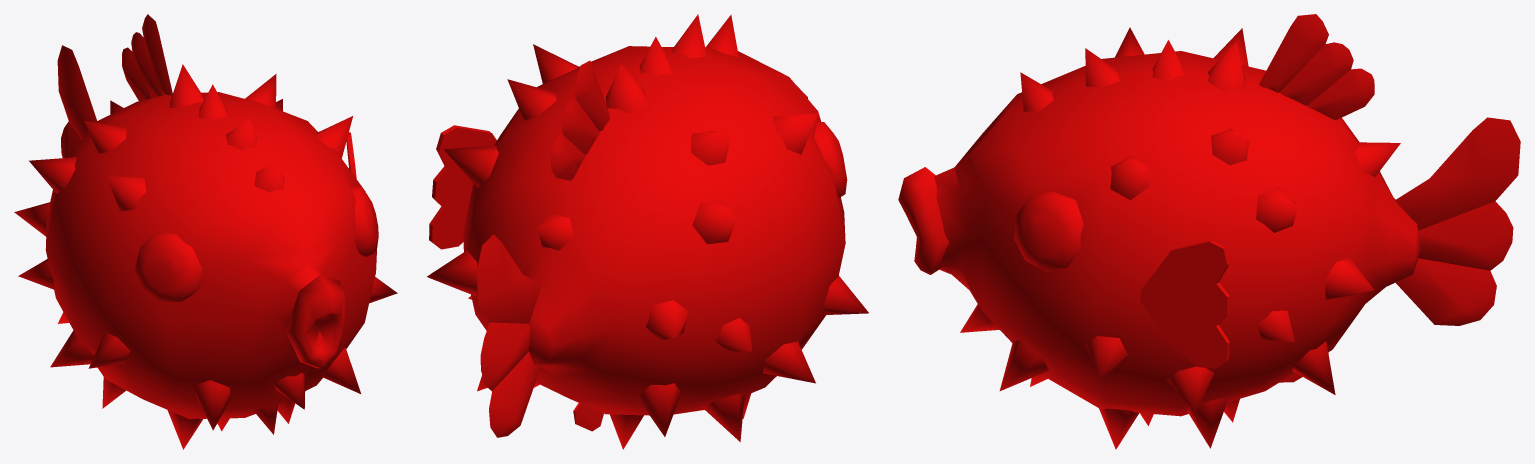
The picture shows the model from 3 angles, left to right: view 1: azimuth 30°, elevation 25°; view 2: azimuth 150°, elevation 25°; view 3: azimuth 270°, elevation 25°; orthographic projection. The views are drawn at different scales.
Parts seen in each view (by area): view 1: Fish_PufferFish; view 2: Fish_PufferFish; view 3: Fish_PufferFish.
Boxes of the visible parts, x1=… form: Fish_PufferFish: x1=14, y1=14, x2=397, y2=449; Fish_PufferFish: x1=427, y1=14, x2=868, y2=449; Fish_PufferFish: x1=898, y1=14, x2=1520, y2=449.
Bounding box in the file's own units: 0.2087 × 0.2225 × 0.3043.
